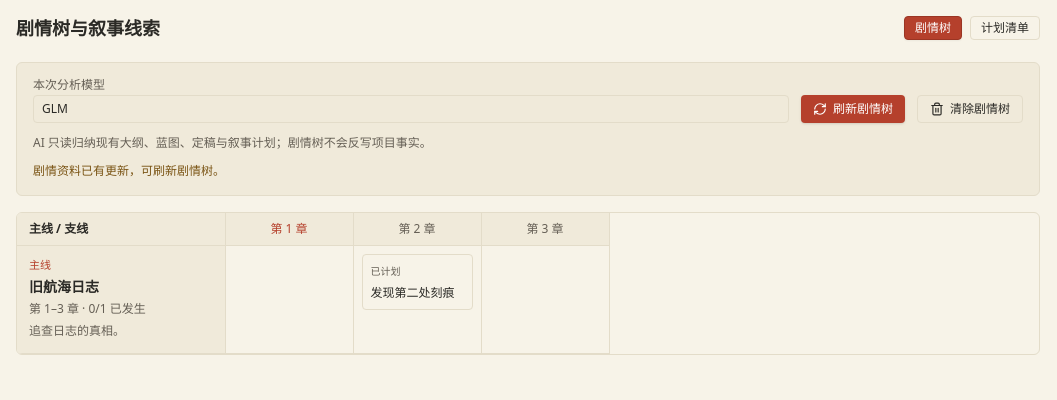
Test: NarrativeThreadEditor › keeps the previous plot tree when refresh fails and shows a safe fallback
Step 1. Click the button "刷新剧情树" → point(853, 109), box [801, 95, 905, 123]
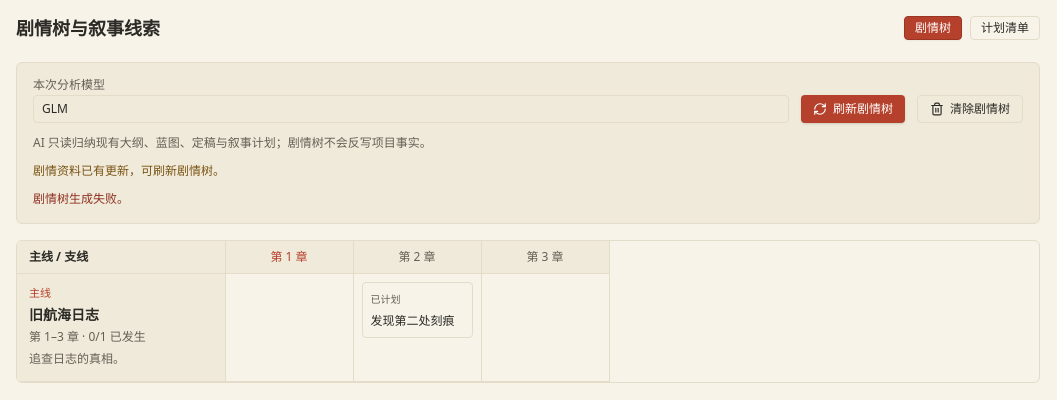
Expected: the text "旧航海日志" is shown, [29, 305, 99, 324]
Result: the text "剧情树生成失败。" is shown at [33, 190, 129, 207]
